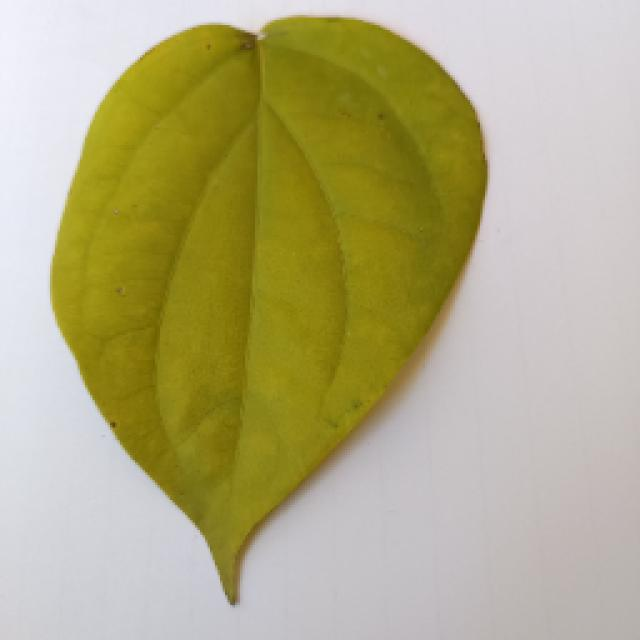slow-decline: (28, 25, 518, 613)
